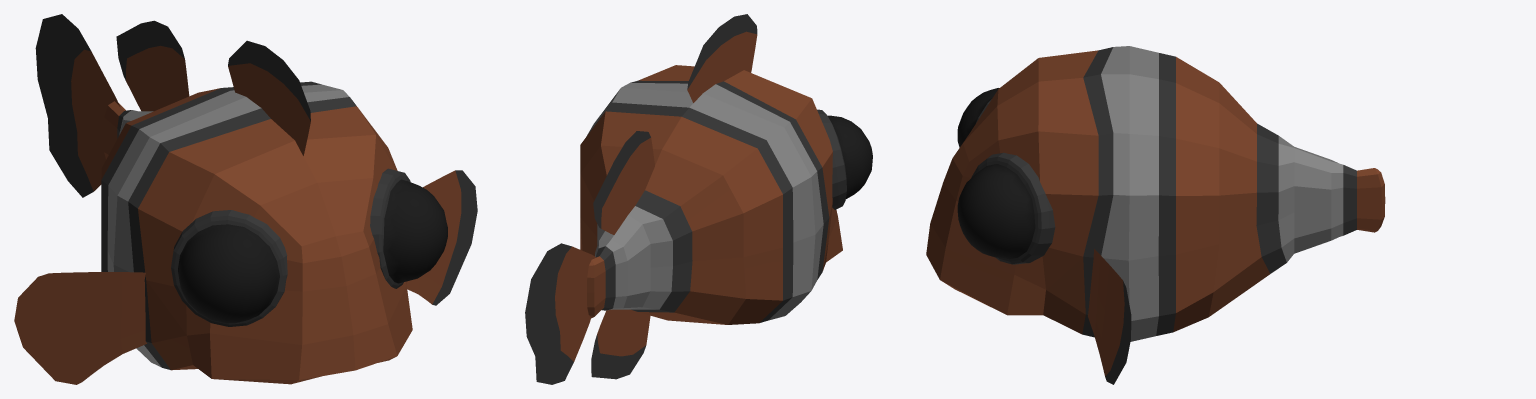
The model's file is clownfish.glb.
3 views of the same model, side by side, from view 1: azimuth 30°, elevation 25°; view 2: azimuth 150°, elevation 25°; view 3: azimuth 270°, elevation 25° (orthographic). The views are drawn at different scales.
Visible parts, largest first — view 1: Clownfish; view 2: Clownfish; view 3: Clownfish.
Boxes of the visible parts, x1,y1,x2,y2 form: Clownfish: [14, 14, 477, 384]; Clownfish: [525, 14, 872, 384]; Clownfish: [926, 46, 1385, 384].
Size of the model in its own units: 4.41 by 3.04 by 5.27.
